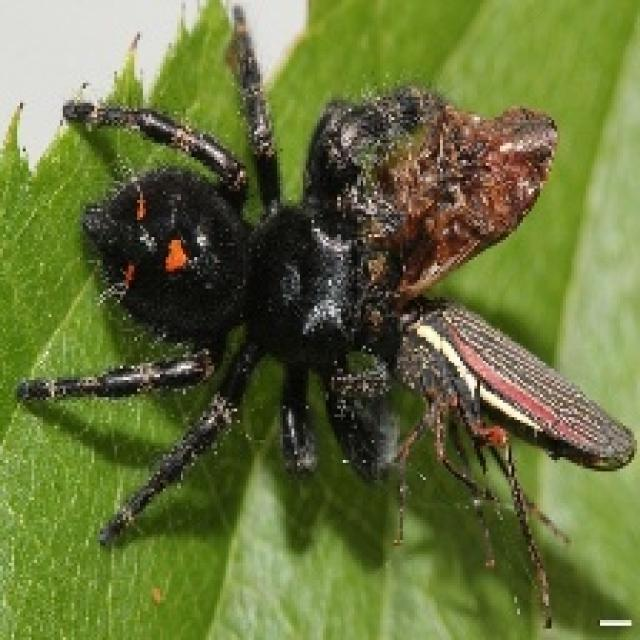Non venomous spider: (38, 30, 632, 637)
